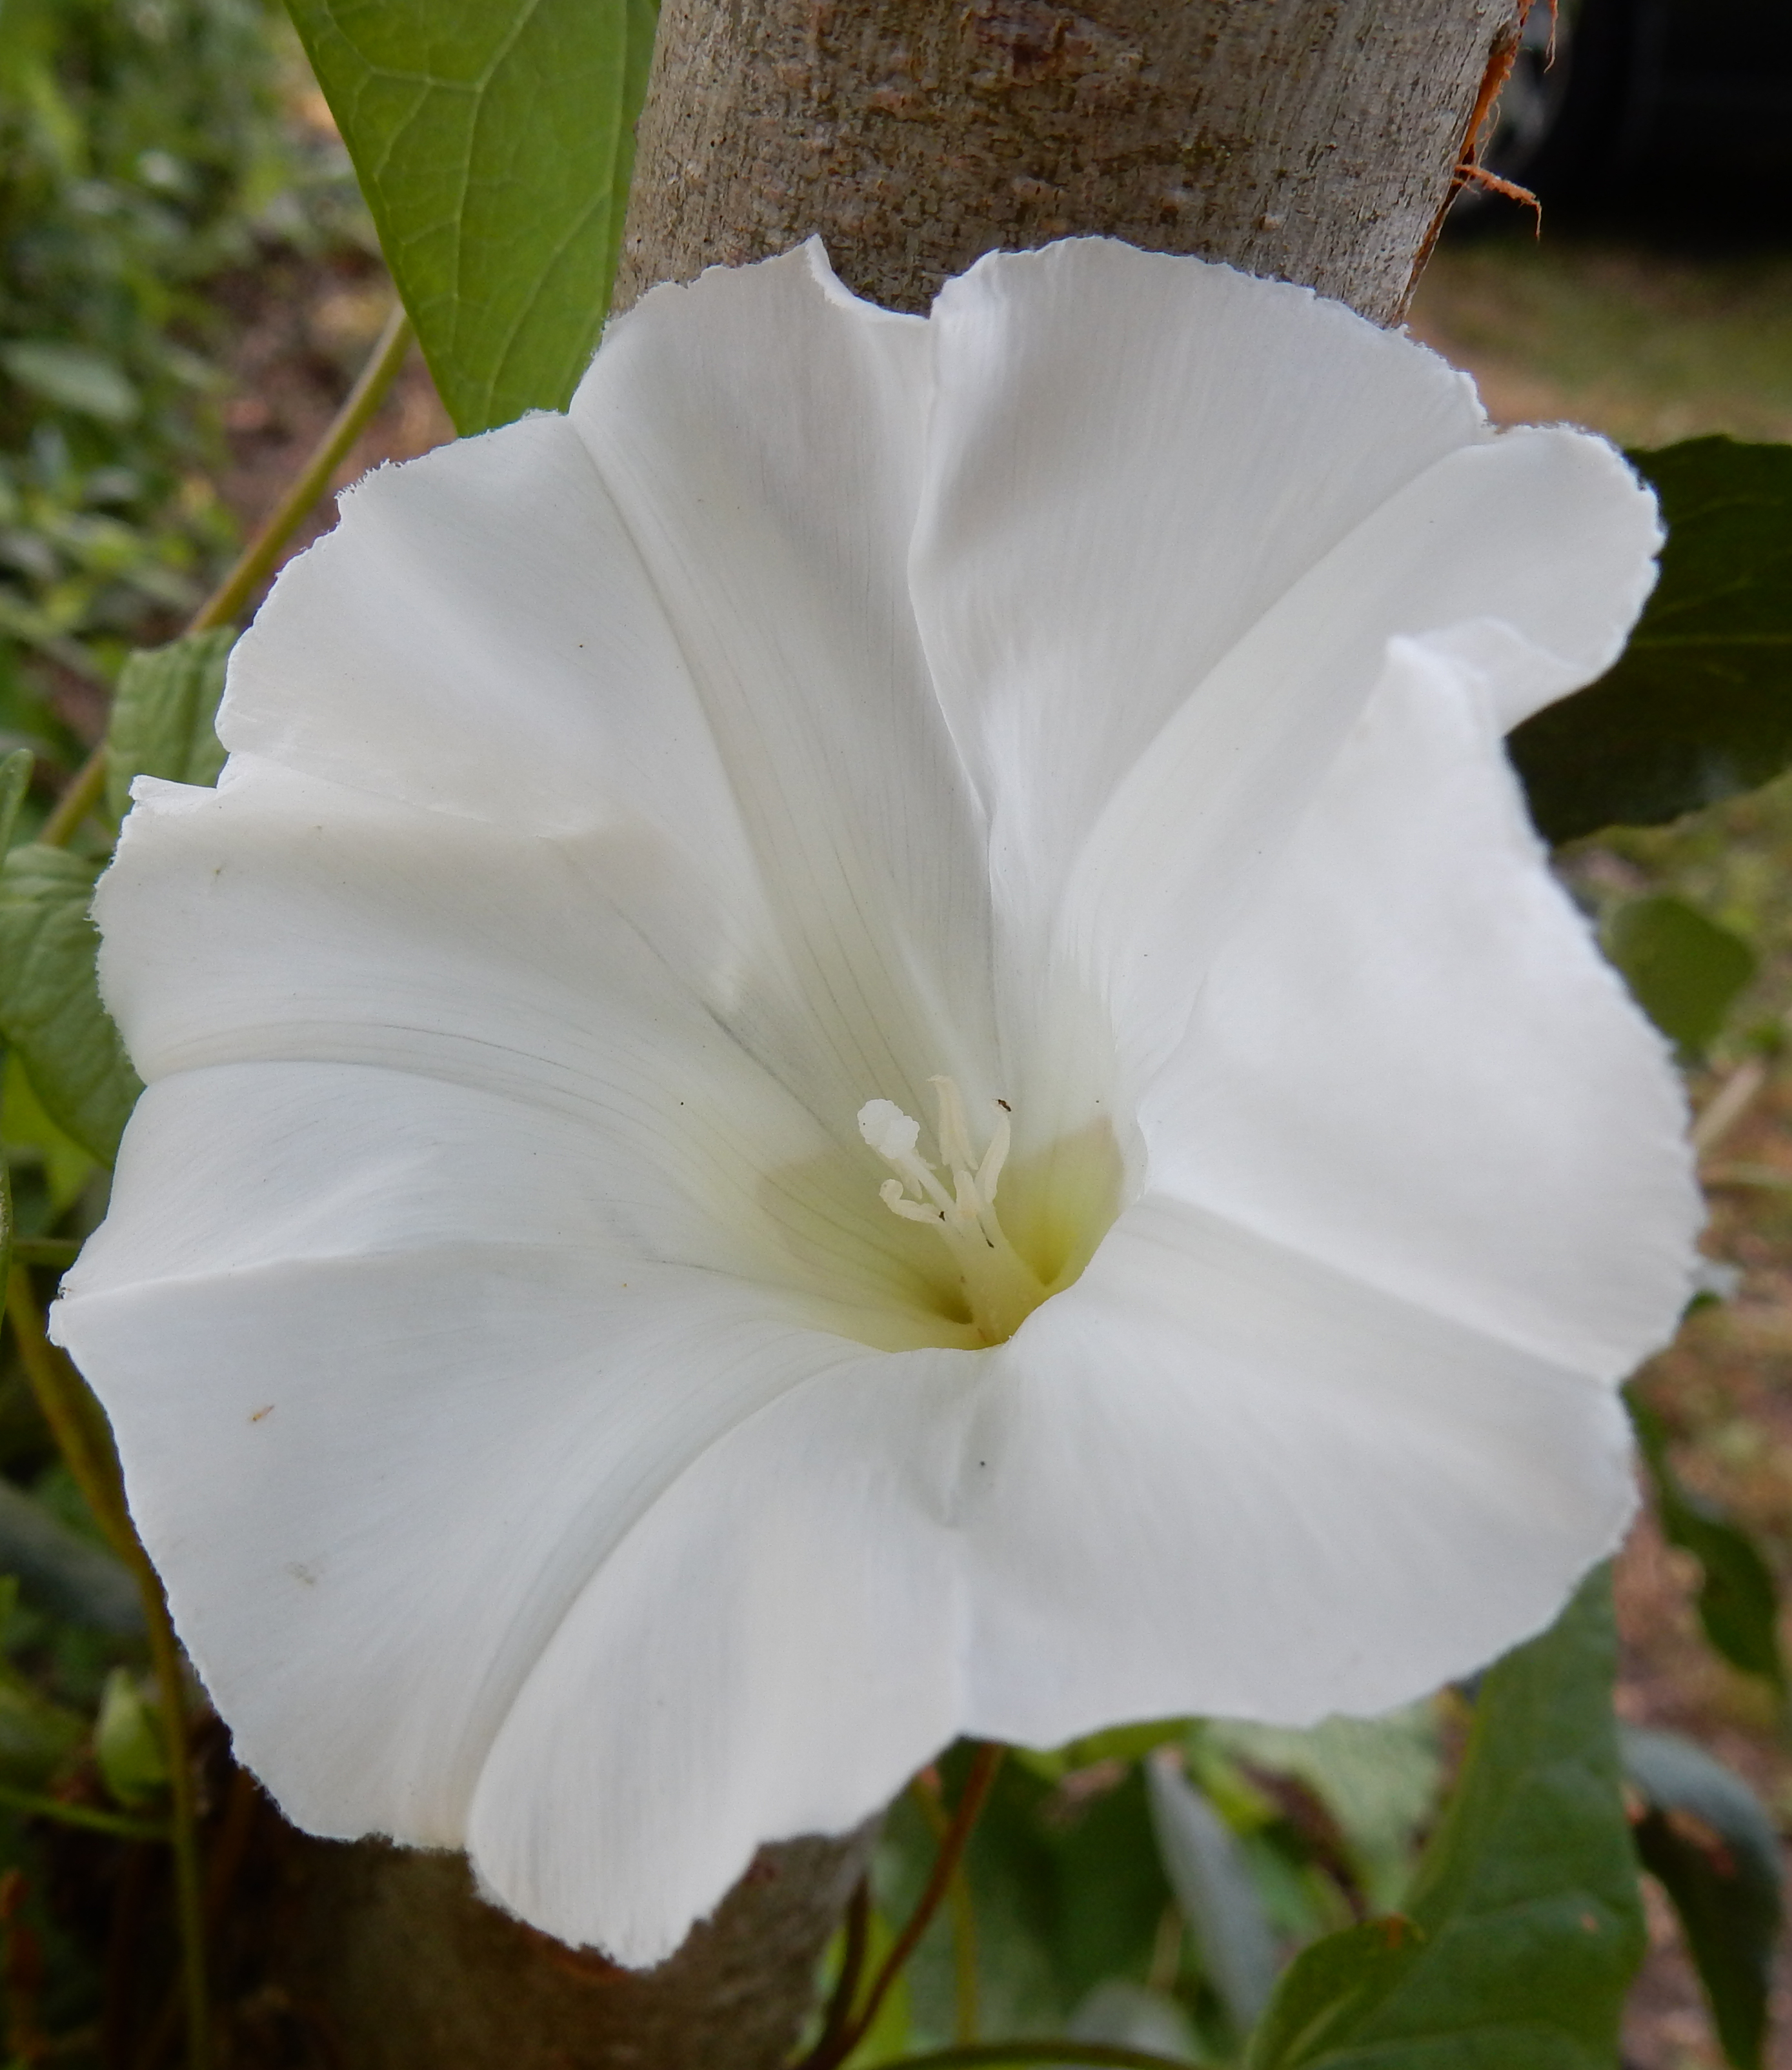haagwinde: (51, 162, 1776, 1975)
